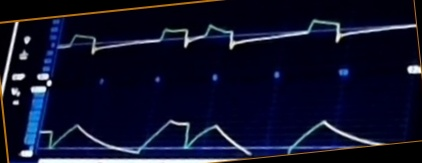Double_Triggering Flow: (59, 17, 415, 63)
Double_Triggering Volume: (41, 112, 383, 156)
